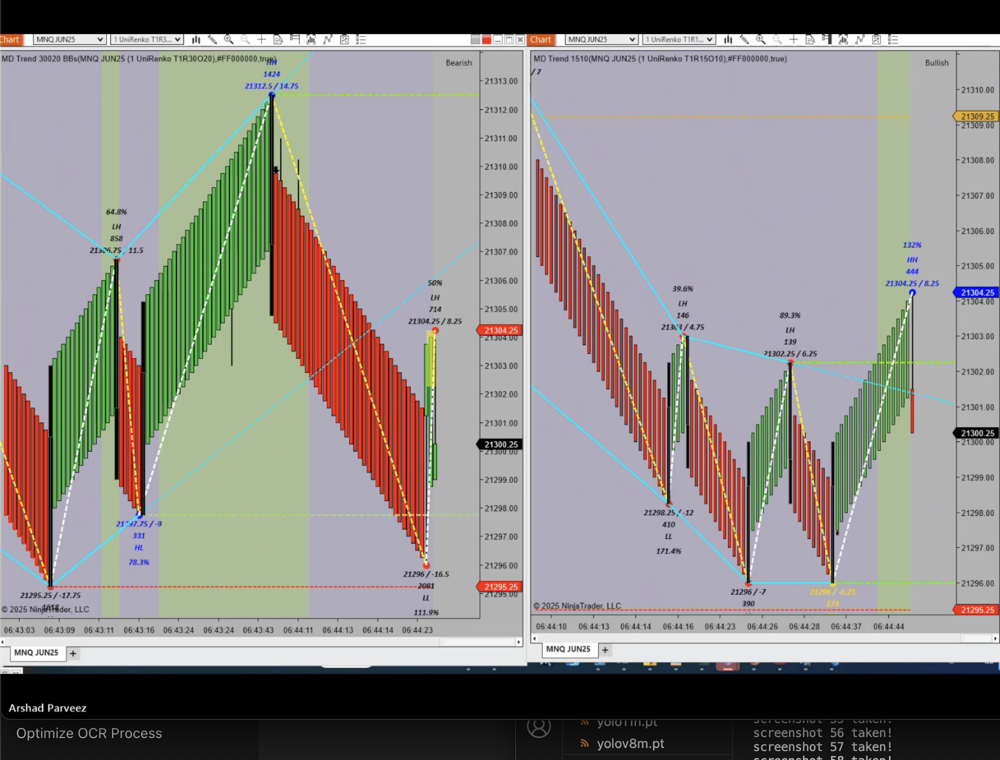HH: (899, 255, 926, 269), (260, 56, 286, 70)
HL: (128, 542, 151, 558)
LH: (673, 293, 694, 316), (428, 289, 446, 306), (108, 222, 129, 235), (782, 325, 800, 337)
LL: (415, 587, 439, 609), (660, 530, 679, 546)
